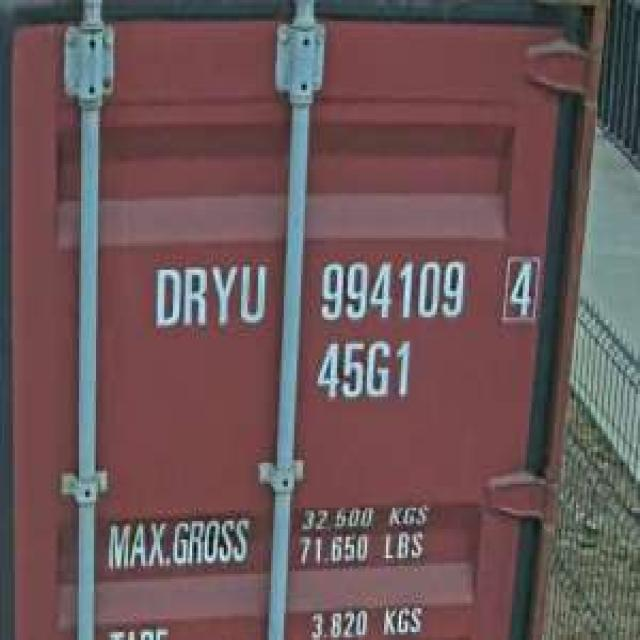dv: (497, 251, 542, 328)
owner: (147, 254, 269, 336)
serial: (312, 251, 469, 328)
size: (309, 333, 416, 407)
